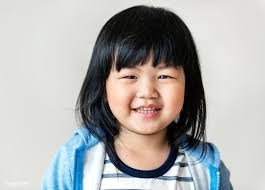person: (74, 5, 206, 140)
